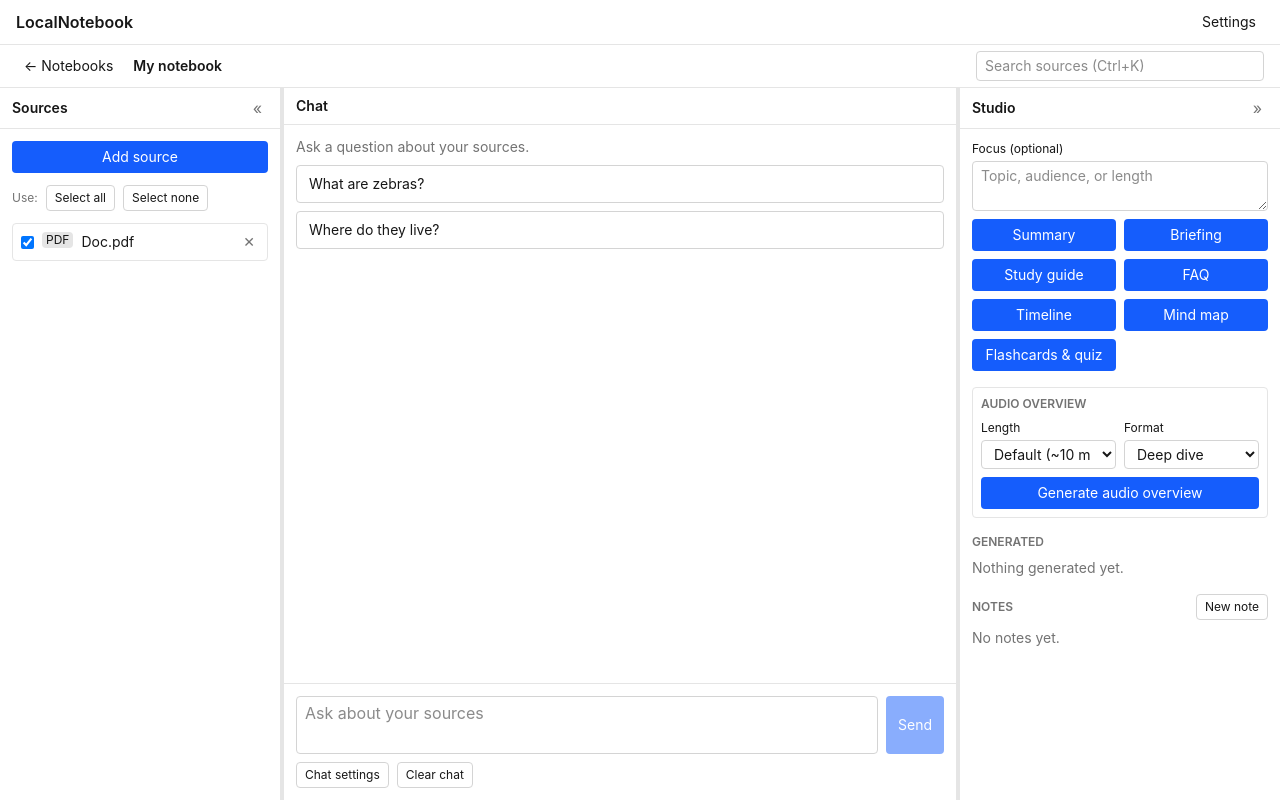
Scenario: shows starter questions when the chat is empty and sends one on click
Click the button "What are zebras?": (367, 184) x1=296 y1=165 x2=944 y2=203
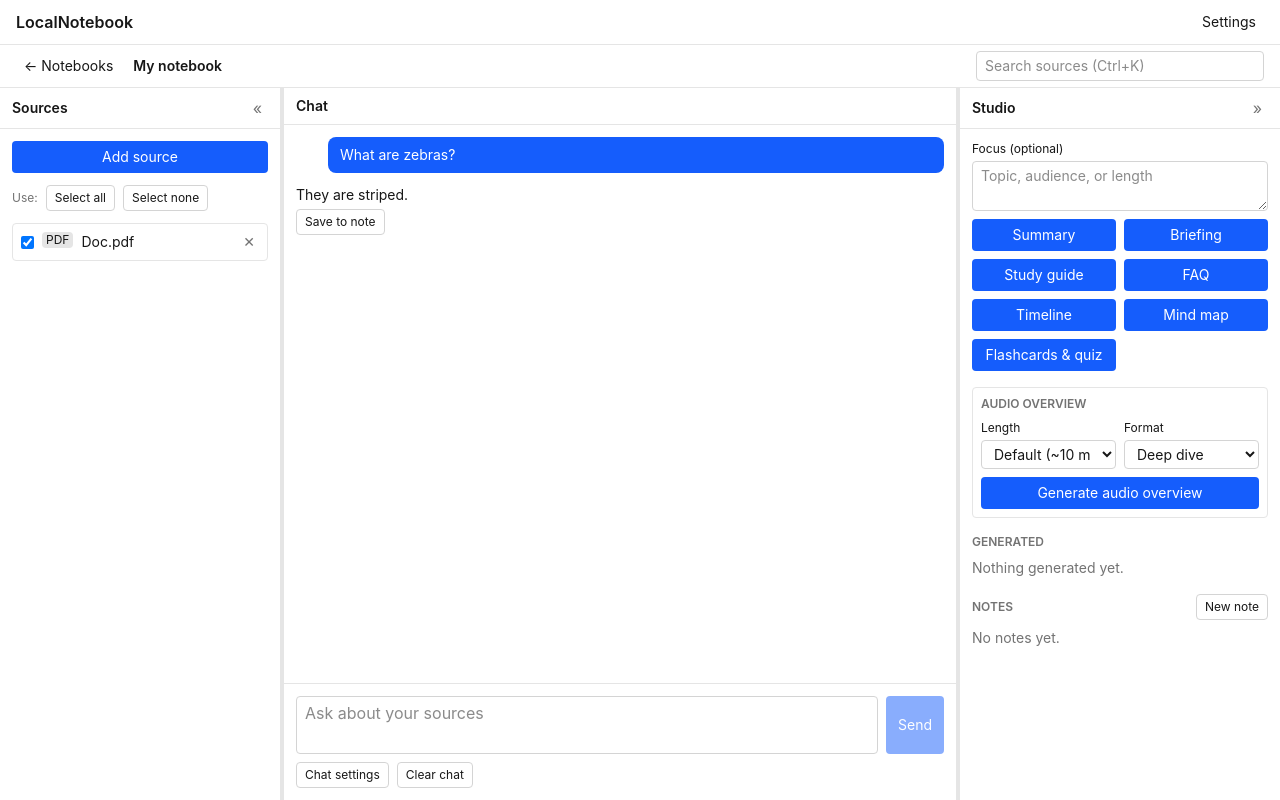
Check: the text "They are striped." is shown, box x1=296 y1=186 x2=408 y2=203
